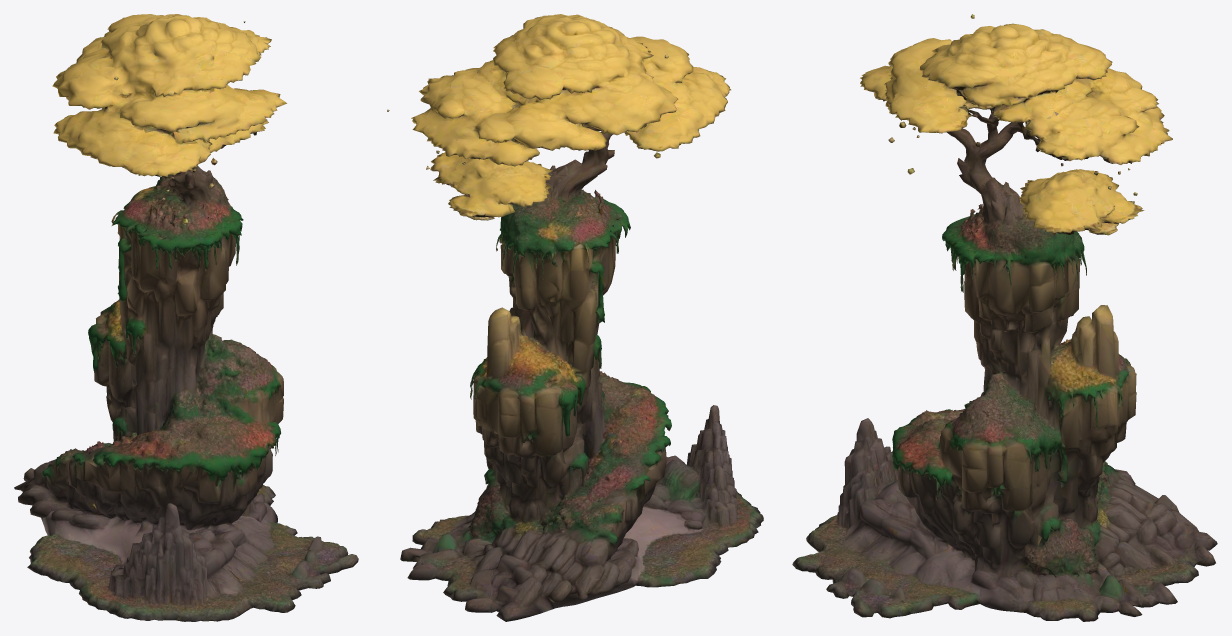
File: Golden_Tree_of_the_Sk.glb
3 views of the same model, side by side, from view 1: azimuth 30°, elevation 25°; view 2: azimuth 150°, elevation 25°; view 3: azimuth 270°, elevation 25° (orthographic). The views are drawn at different scales.
Visible parts, largest first — view 1: Golden_Tree_of_the_Sk; view 2: Golden_Tree_of_the_Sk; view 3: Golden_Tree_of_the_Sk.
Part boxes in pixels (x1,y1,x2,y2): Golden_Tree_of_the_Sk: [14, 14, 358, 621]; Golden_Tree_of_the_Sk: [387, 14, 763, 621]; Golden_Tree_of_the_Sk: [792, 14, 1217, 621].
Size of the model in its own units: 1.04 by 1.9 by 1.37.
1 material, 1 textured.
